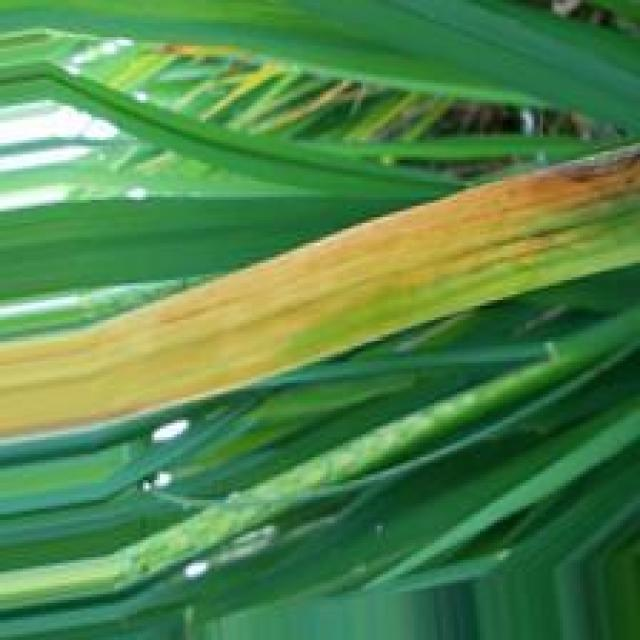Leaf_Blast: (0, 142, 640, 448)
